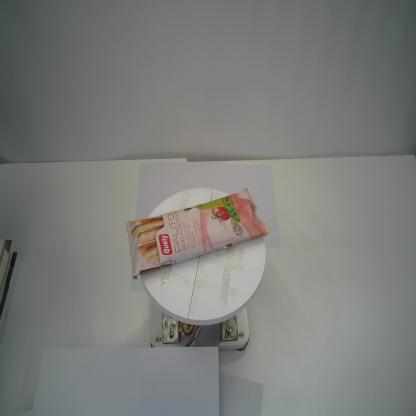Dessert: (122, 186, 272, 286)
